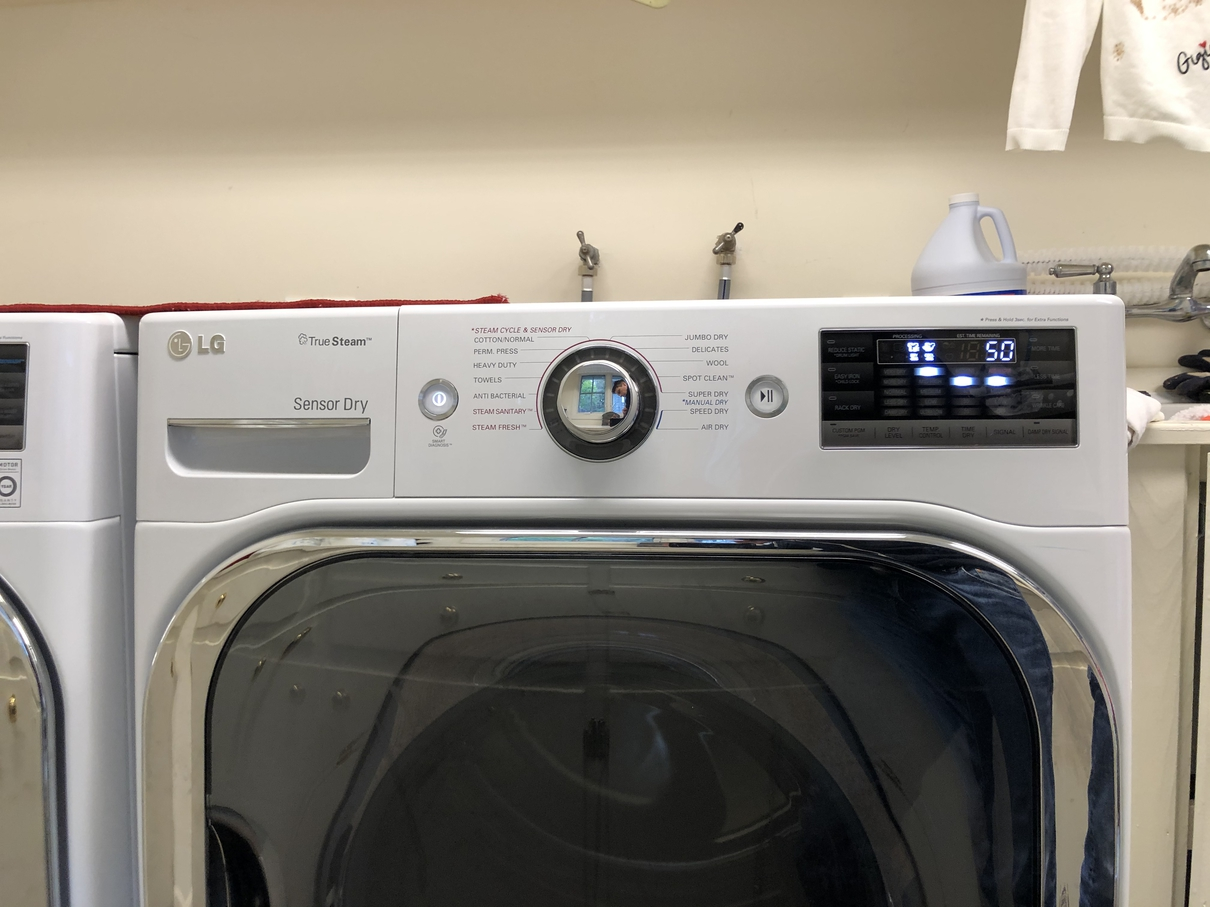status: (869, 330, 1021, 367)
